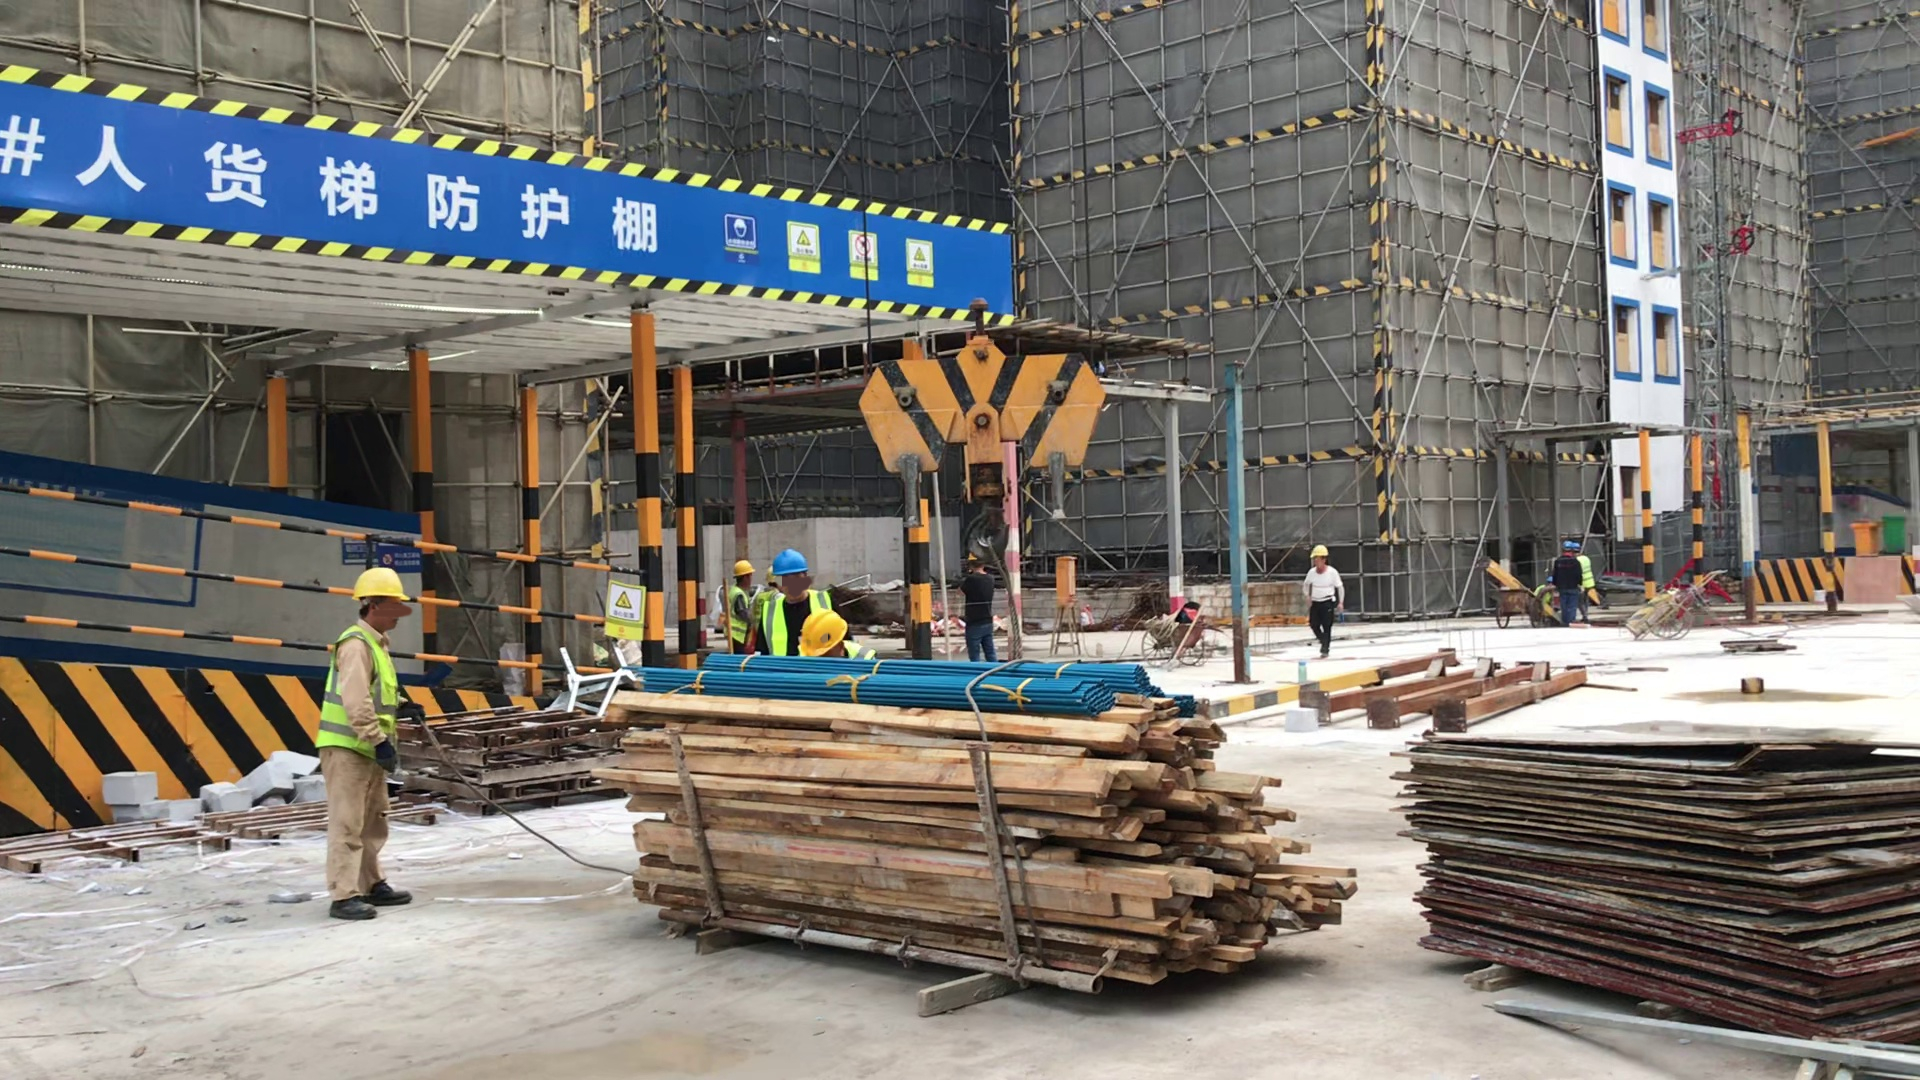helmet: (799, 611, 848, 656), (354, 569, 411, 603), (774, 550, 809, 576), (733, 560, 755, 579), (1309, 546, 1328, 558), (1562, 542, 1573, 551)
person: (321, 569, 415, 916), (762, 550, 833, 668), (948, 551, 998, 668), (1300, 546, 1342, 657), (725, 560, 756, 664), (1555, 543, 1583, 626), (1577, 541, 1598, 611)
vest: (319, 631, 401, 763), (764, 594, 844, 652), (726, 590, 752, 640), (1576, 556, 1594, 586)
